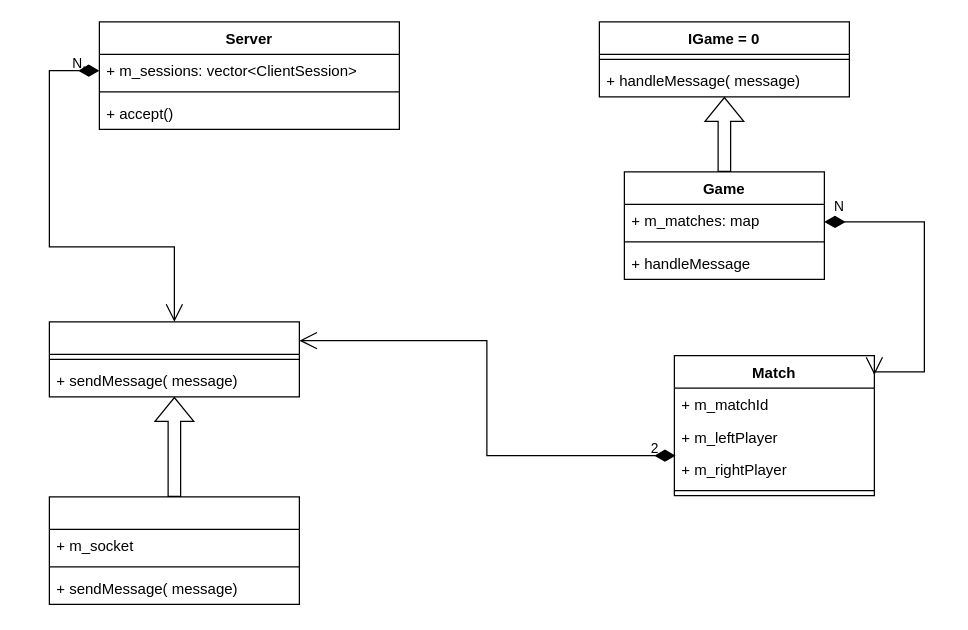
Some shapes in this 968 by 630 pixel diagram are drawn without their labels. The shapes that lost their labels are listed below. From the top down, each one's box as (x1, y1, x2, y2) in pixels, then its label:
(48, 321, 299, 397): IClientSession = 0
(48, 496, 299, 604): ClientSession
